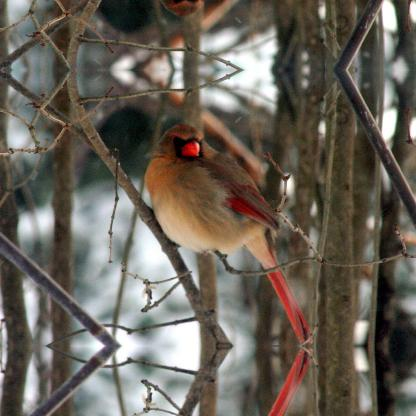Bird: (145, 119, 314, 345), (144, 346, 314, 415)
